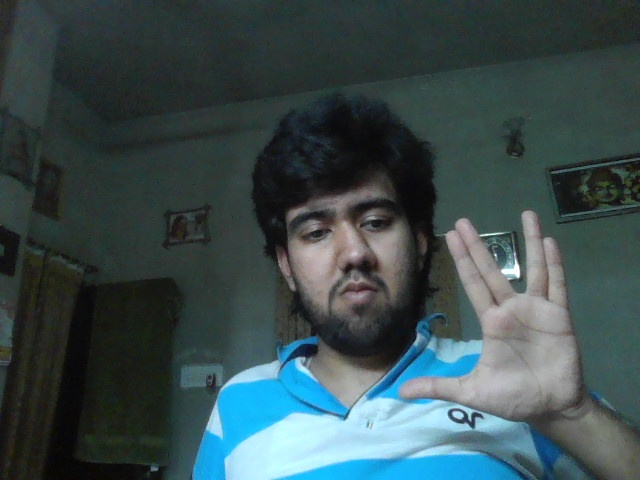LiveLong: (399, 210, 584, 417)
